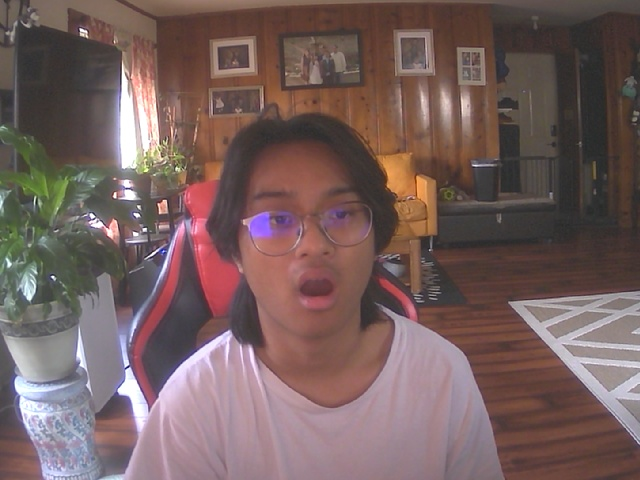fear: (225, 118, 391, 339)
